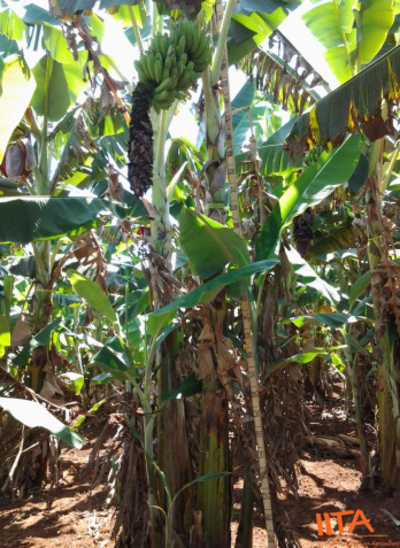bananaHand: (133, 17, 213, 116)
